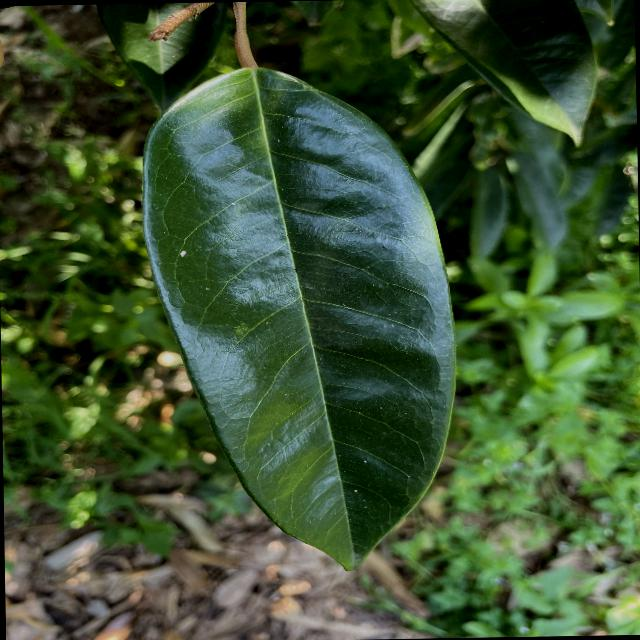No Disease: (130, 54, 473, 584)
